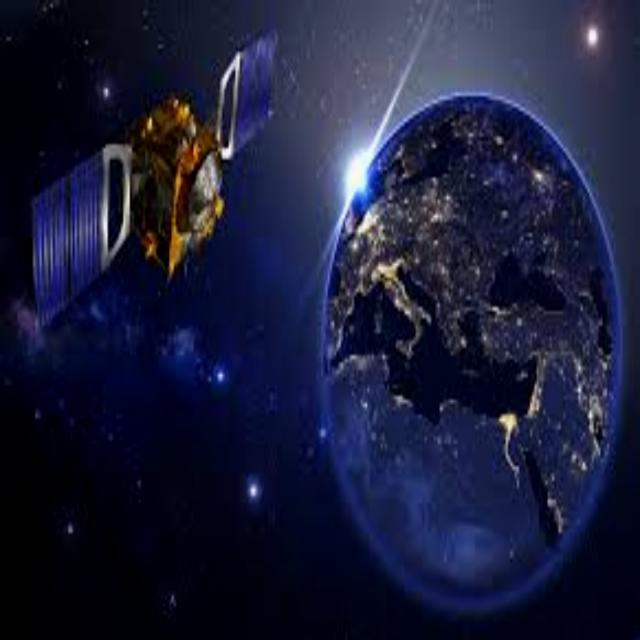satellite: (26, 29, 290, 341)
